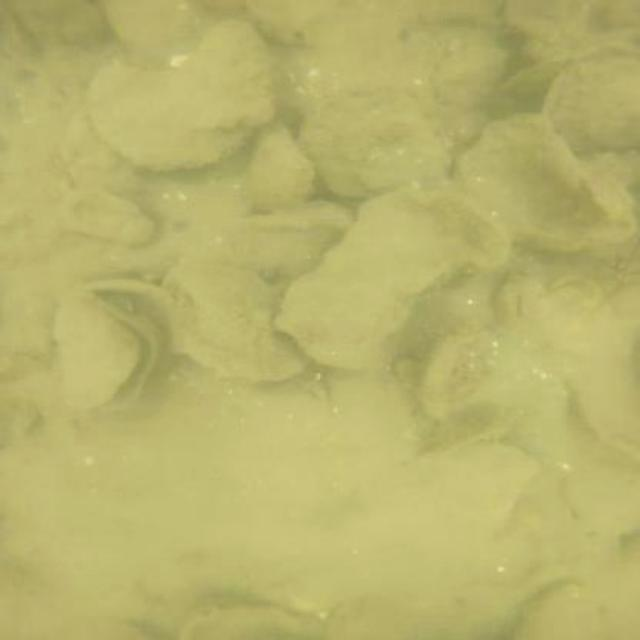Oyster-Closed: (283, 193, 477, 371), (88, 19, 272, 169), (456, 102, 638, 253), (165, 262, 307, 381), (295, 86, 442, 193), (544, 50, 639, 149), (65, 113, 157, 195), (53, 184, 158, 248), (428, 328, 499, 418), (435, 32, 506, 107), (104, 1, 194, 59), (514, 583, 606, 639), (412, 405, 515, 455), (248, 128, 312, 207), (324, 602, 395, 639)
Oyster-Open: (48, 288, 156, 413)
